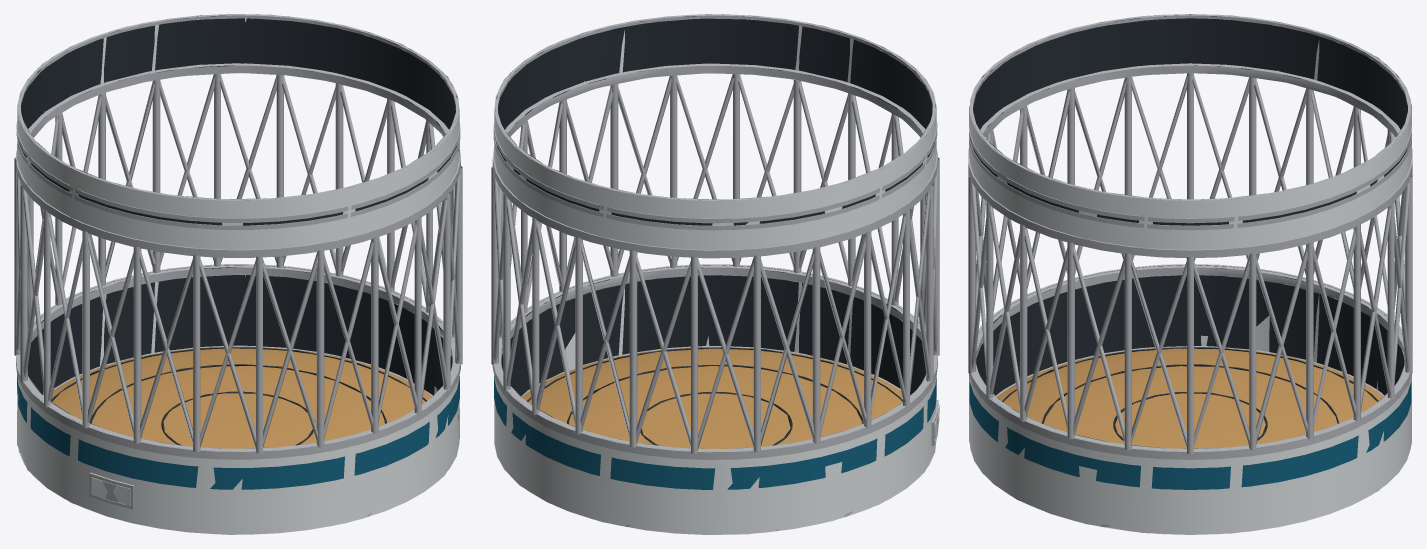
The model's file is interstage_hot_staging_d84.glb.
3 views of the same model, side by side, from view 1: azimuth 30°, elevation 25°; view 2: azimuth 150°, elevation 25°; view 3: azimuth 270°, elevation 25° (orthographic).
Parts seen in each view (by area): view 1: interstage_hot_staging_d84_mesh; view 2: interstage_hot_staging_d84_mesh; view 3: interstage_hot_staging_d84_mesh.
Part boxes in pixels (x1,y1,x2,y2): interstage_hot_staging_d84_mesh: (14, 14, 462, 534); interstage_hot_staging_d84_mesh: (491, 14, 939, 534); interstage_hot_staging_d84_mesh: (968, 14, 1412, 534).
Bounding box in the file's own units: 8.53 × 7 × 8.44.
